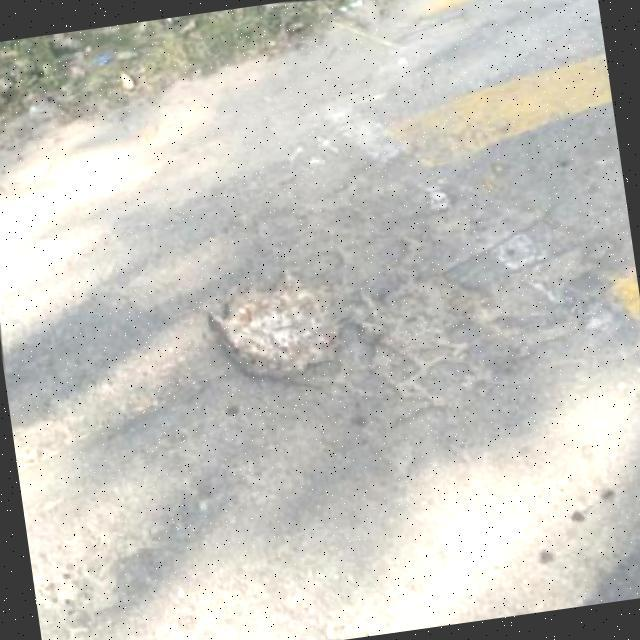Pothole: (209, 278, 343, 380)
